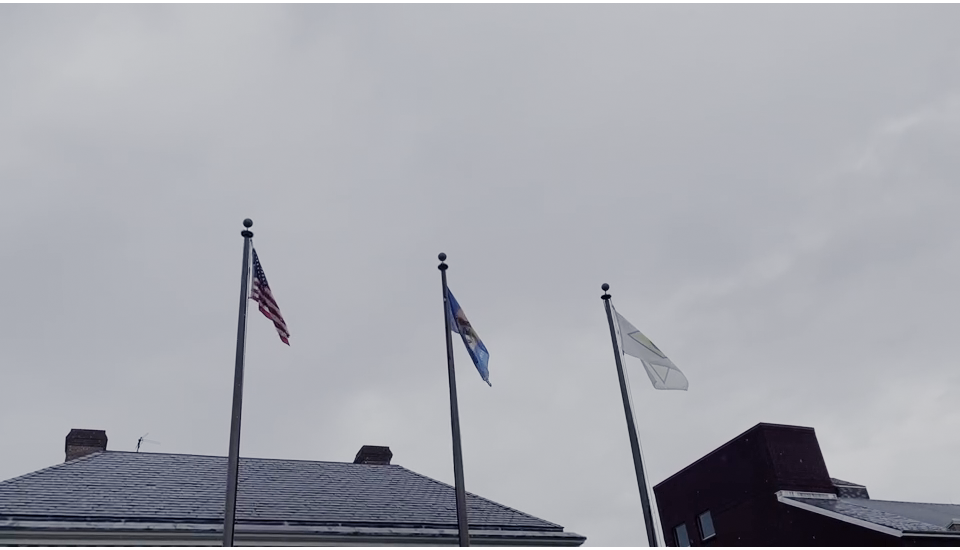America flag: (249, 236, 291, 345)
Delaware flag: (444, 280, 494, 385)
